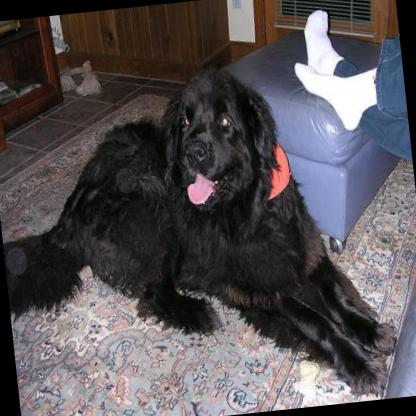Newfoundland: (0, 37, 404, 416)
